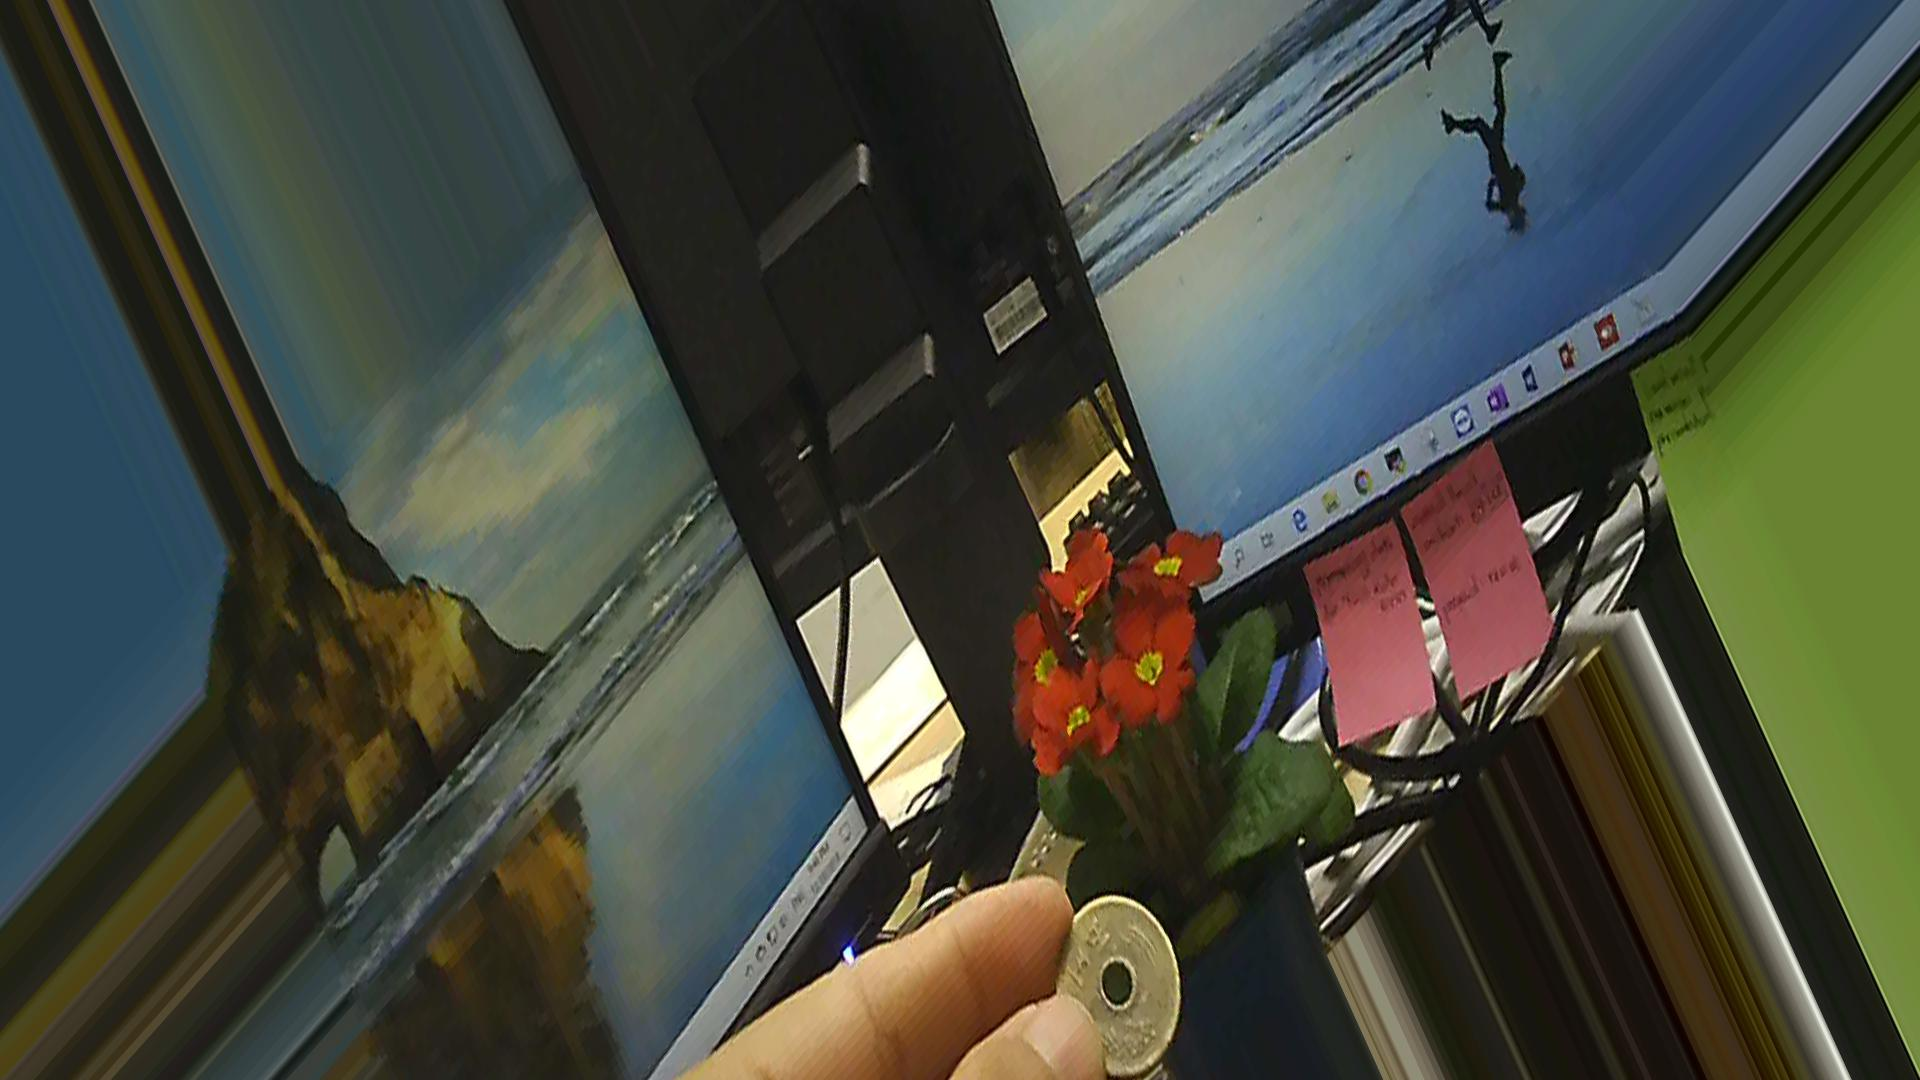5 Yen: (1044, 894, 1193, 1069)
